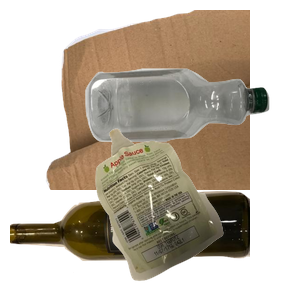cardboard: (43, 10, 283, 190)
glass: (10, 189, 250, 300)
plastic: (83, 66, 300, 201)
trash: (93, 126, 300, 300)
